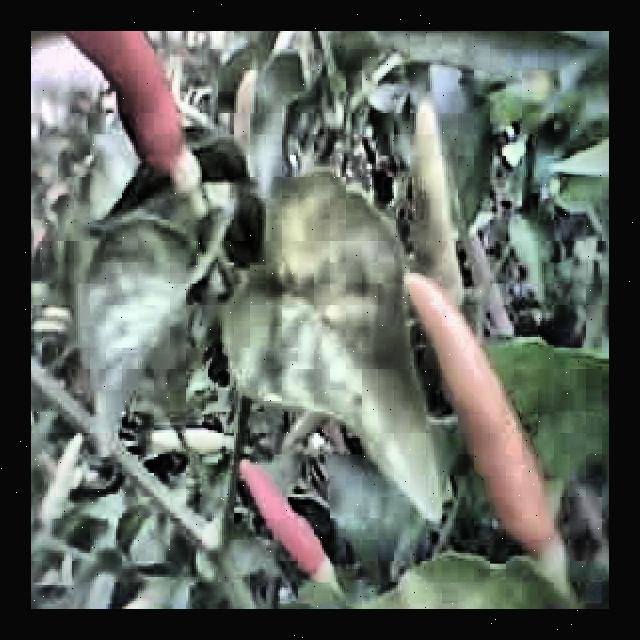Cabai: (399, 278, 568, 564), (40, 31, 223, 190), (241, 445, 341, 568)
